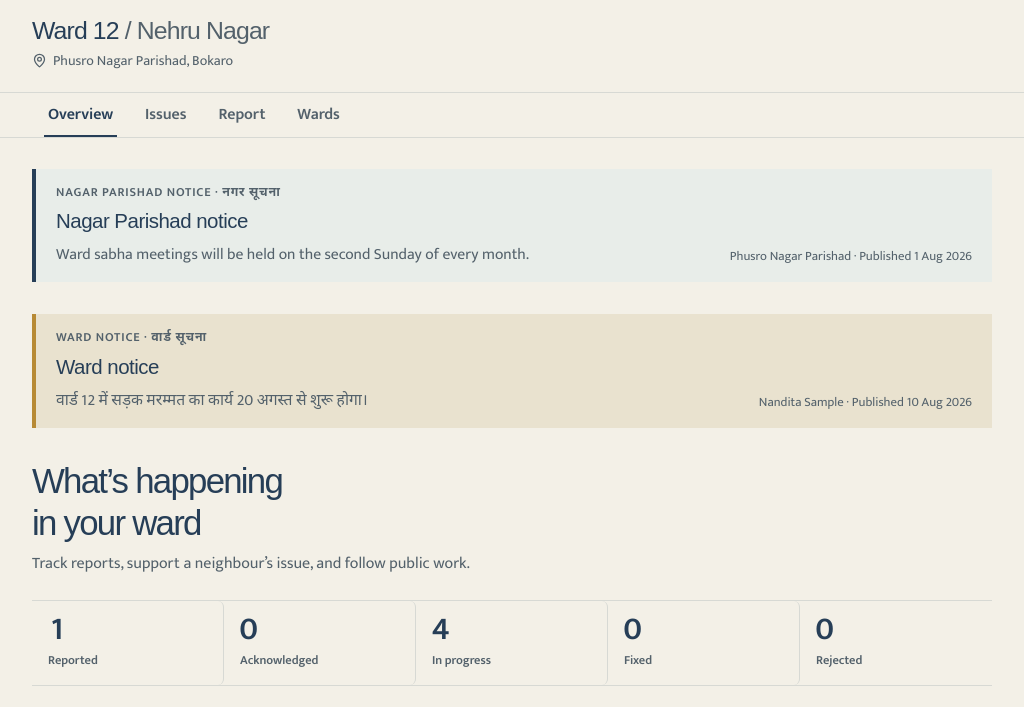
Test: new issue status trail › shows the optimistic Reported event immediately after submitting a report
Step 1. Click the button "Report" → [242, 115], box x1=202 y1=93 x2=281 y2=137
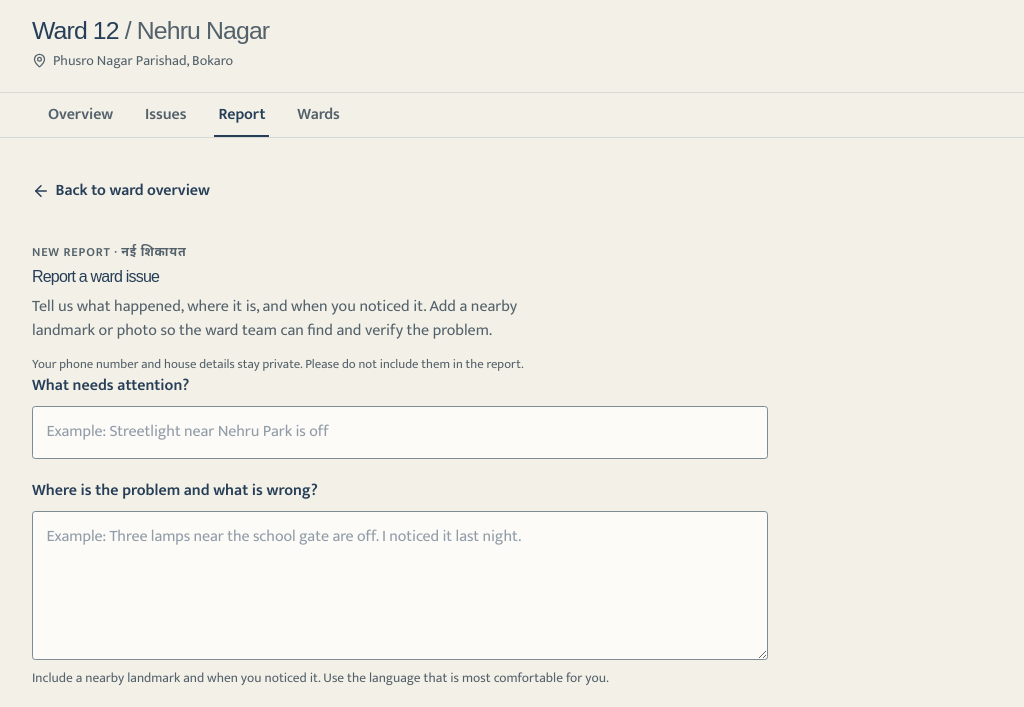
Step 2. Type "Drain blocked near Ward 12 community hall" into the field labelled "What needs attention?" → [400, 432], box x1=32 y1=406 x2=768 y2=459
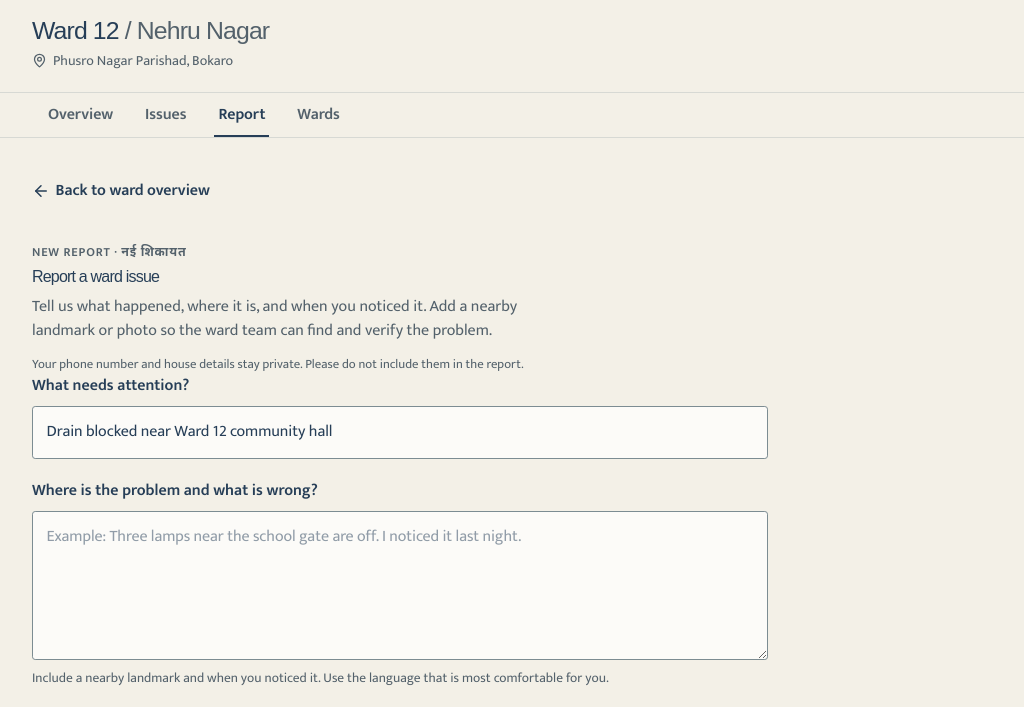
Step 3. Replace the text in the text box labelled "Where is the problem and what is wrong?" with "The drain is blocked with plastic waste and water is overflowing onto the road." → [400, 586], box x1=32 y1=511 x2=768 y2=660
(page scrolled)
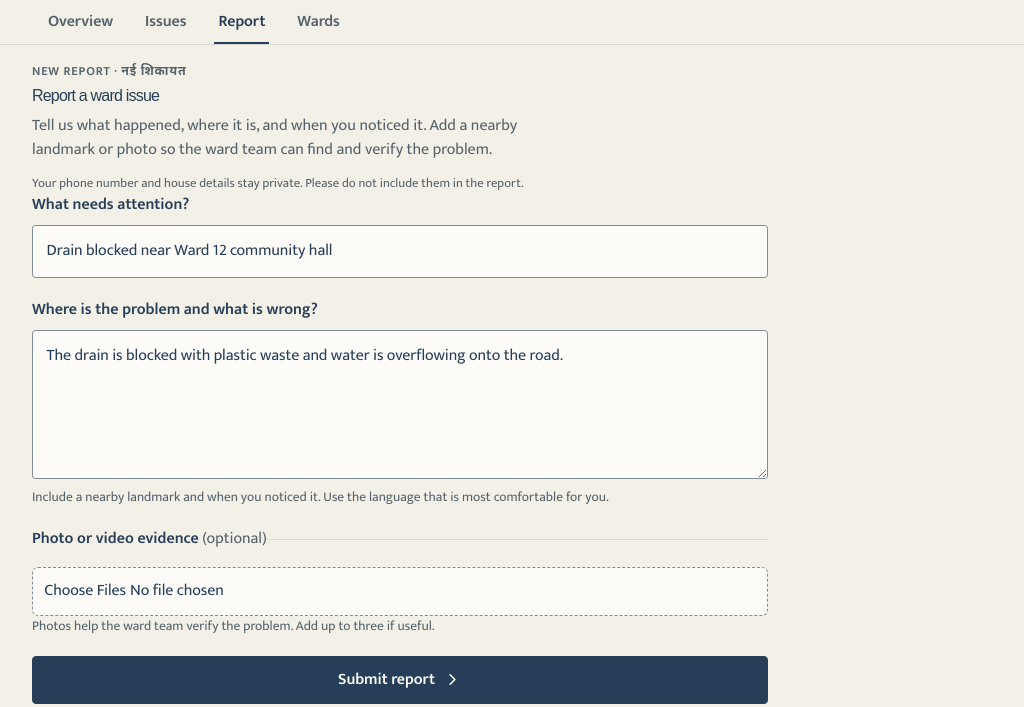
Step 4. Click the button "Submit report" → [400, 680], box x1=32 y1=656 x2=768 y2=704
(page scrolled)
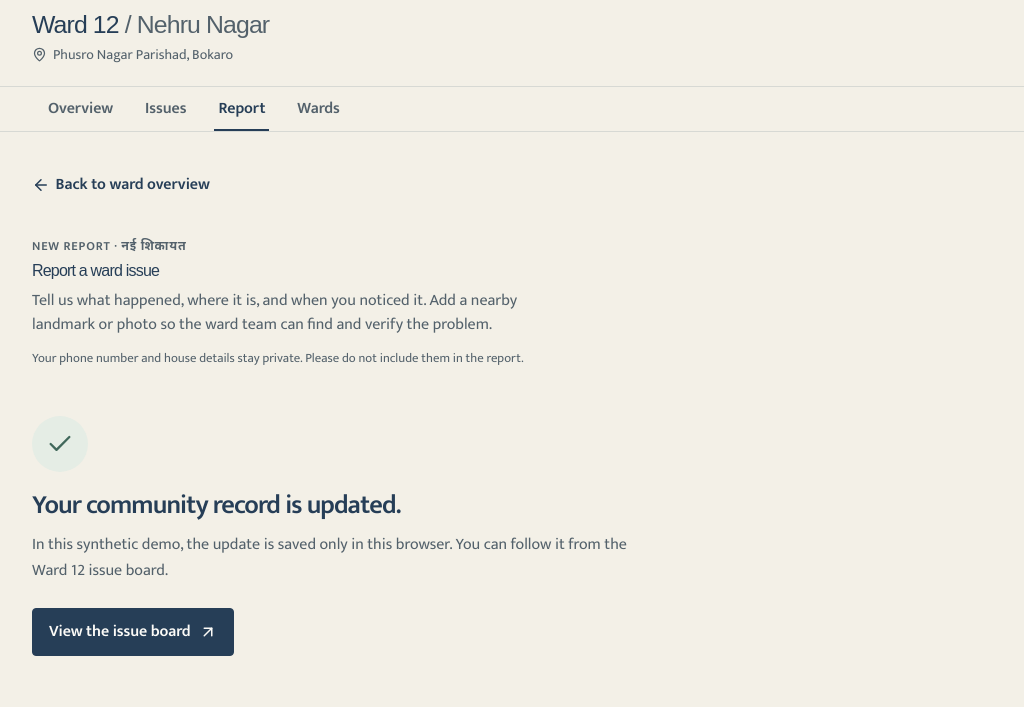
Result: the button "View the issue board" is shown
Step 5. Click the button "View the issue board" → [133, 632], box x1=32 y1=608 x2=234 y2=656
(page scrolled)
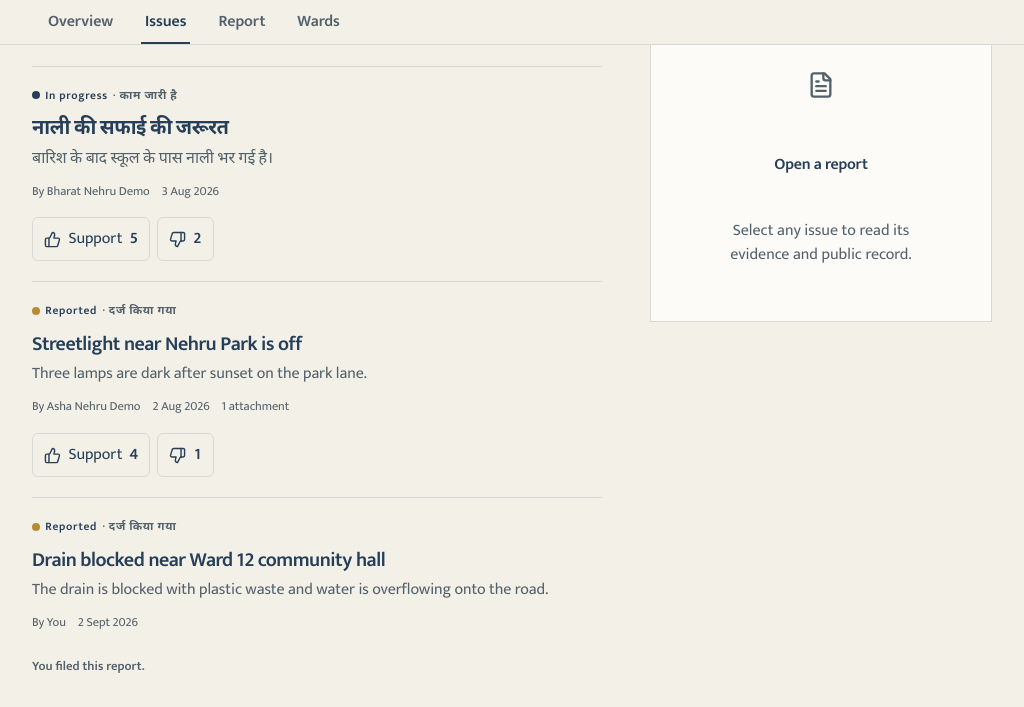
Result: the button with aria-label "Open issue: Drain blocked near Ward 12 community hall" is shown
Step 6. Click the button with aria-label "Open issue: Drain blocked near Ward 12 community hall" → [317, 576], box x1=32 y1=518 x2=602 y2=633
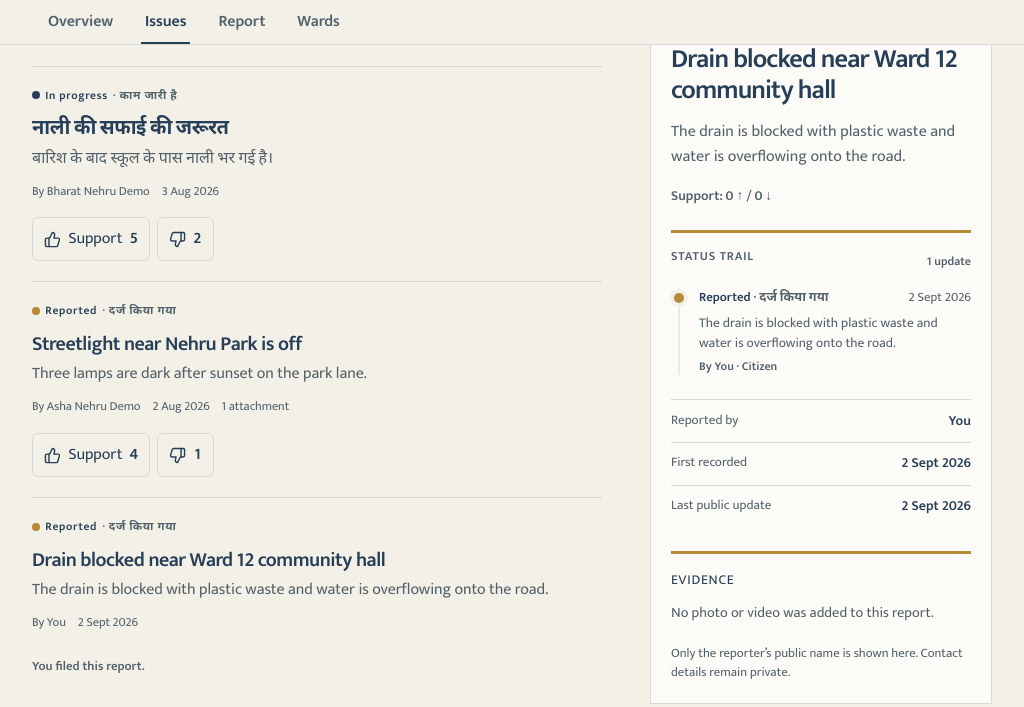
Result: the text "1 update" is shown at x1=927 y1=252 x2=971 y2=270
Result: the text "Reported · दर्ज किया गया" is shown at x1=699 y1=288 x2=828 y2=307
Result: the text "The drain is blocked with plastic waste and water is overflowing onto the road." below "1 update" is shown at x1=699 y1=312 x2=938 y2=355
